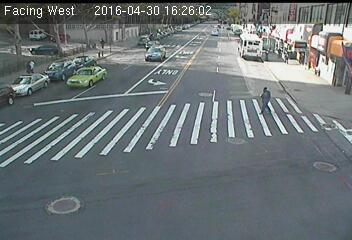neg: (202, 160, 233, 202), (240, 181, 270, 222), (53, 170, 82, 209), (200, 49, 225, 81), (137, 174, 161, 206), (83, 56, 105, 85), (56, 125, 75, 151), (310, 148, 327, 171), (149, 127, 166, 150), (258, 30, 274, 51), (210, 123, 225, 143), (153, 44, 167, 62), (299, 51, 313, 69)
pos: (254, 83, 277, 114), (25, 57, 38, 74)
